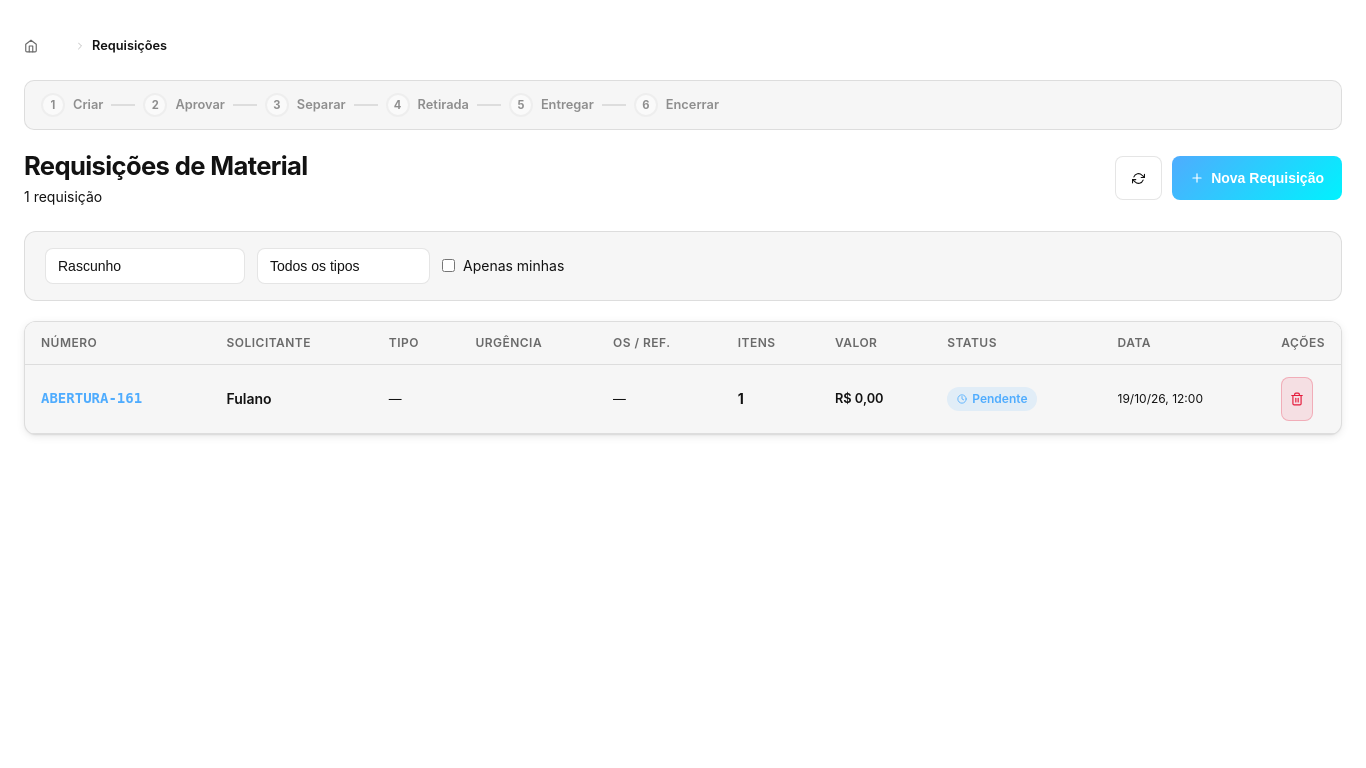
it: [RN-161.02, C396] Requisicoes › a resposta lenta do pedido anterior nao troca a lista do ultimo
Step 1. Select "Rascunho" in the 1st dropdown with class "almox-select" → (145, 266), box [45, 248, 245, 284]
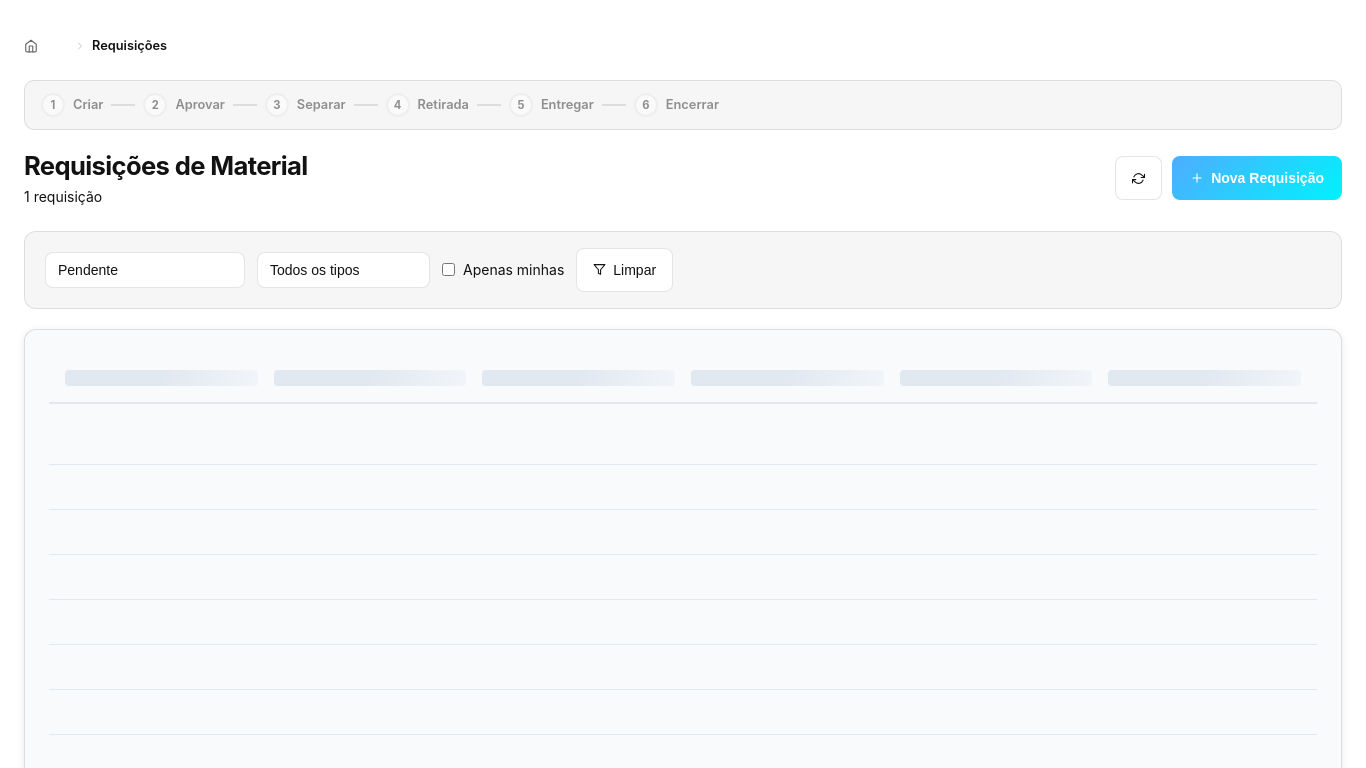
Step 2. Select "Pendente" in the 1st dropdown with class "almox-select" → (145, 270), box [45, 252, 245, 288]
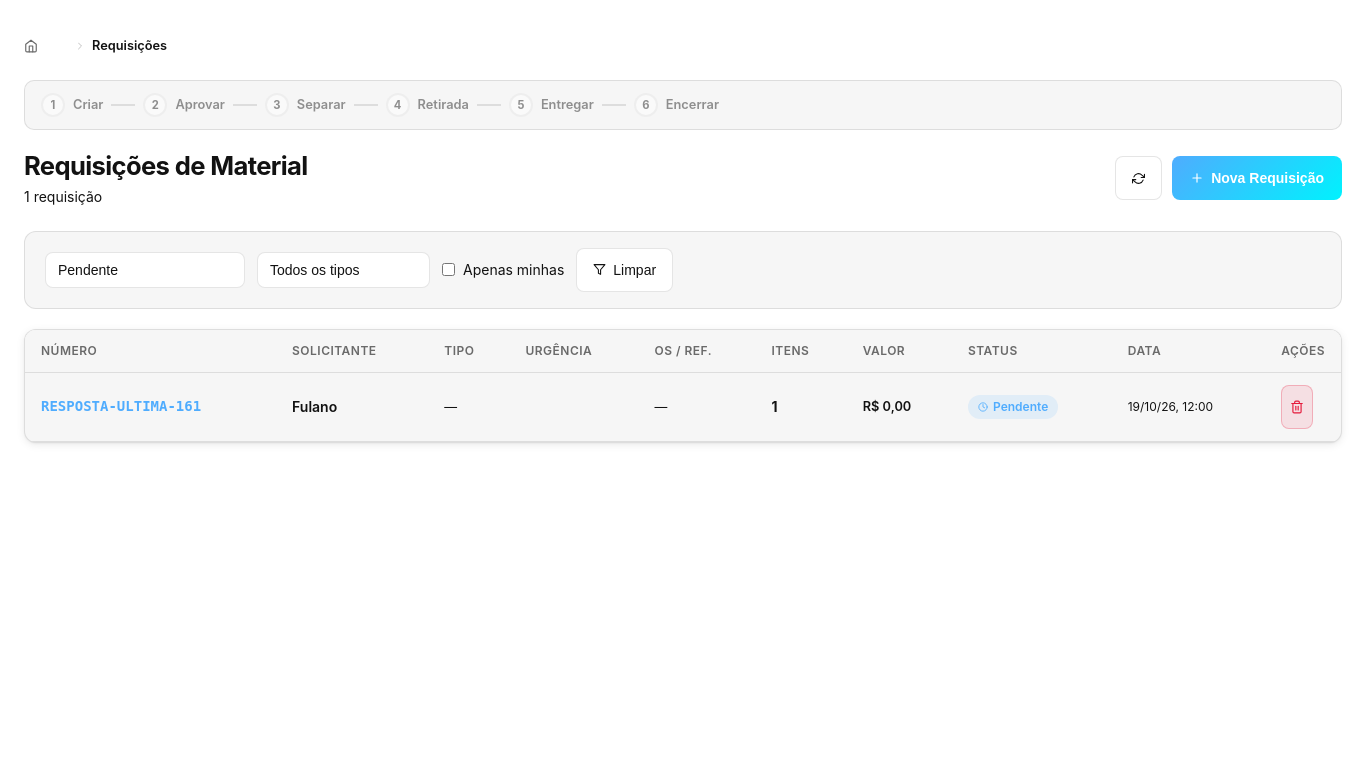
Result: the text "RESPOSTA-ULTIMA-161" is shown at [41, 398, 201, 414]
